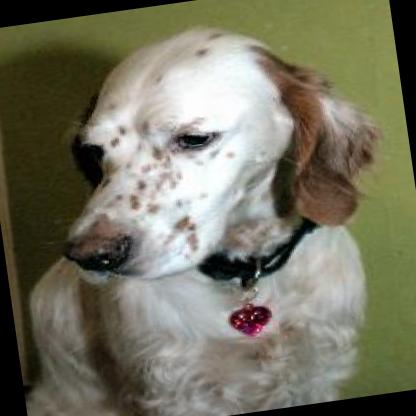English_setter: (0, 3, 413, 416)
